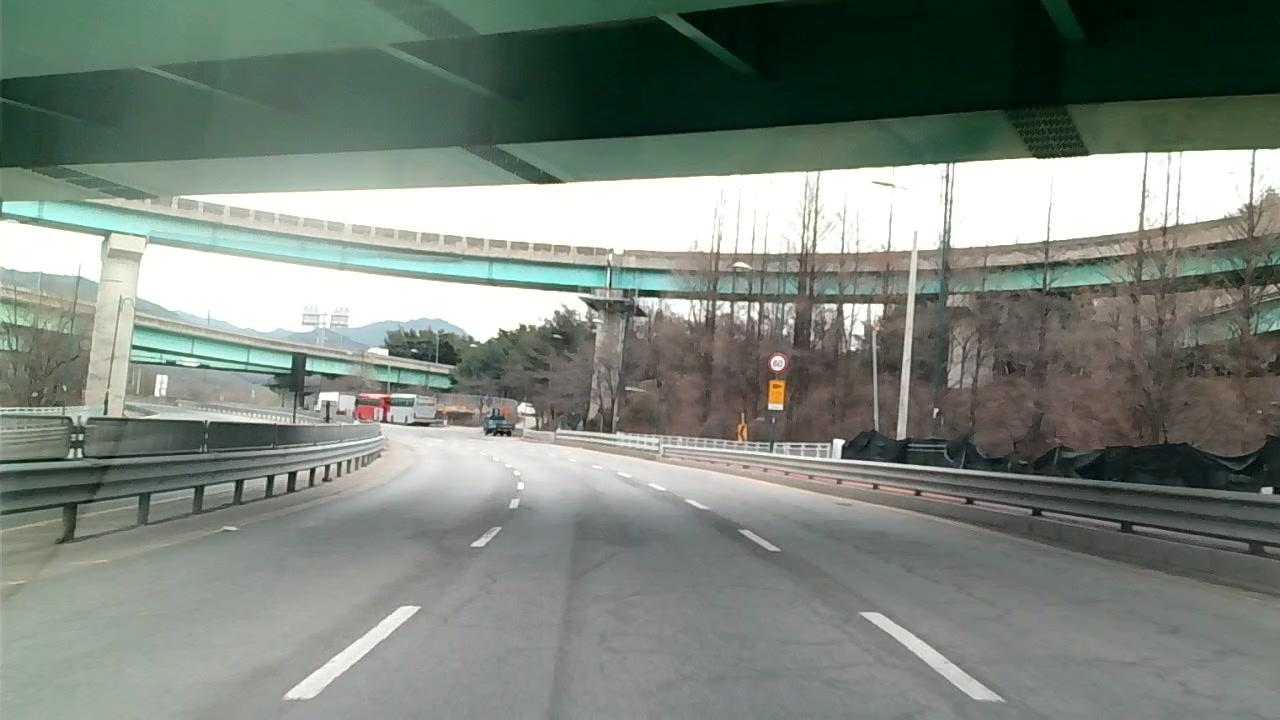vcrack: (841, 536, 975, 596), (1114, 651, 1209, 697), (820, 613, 893, 669), (442, 574, 496, 619), (594, 586, 629, 651), (573, 550, 621, 577)
